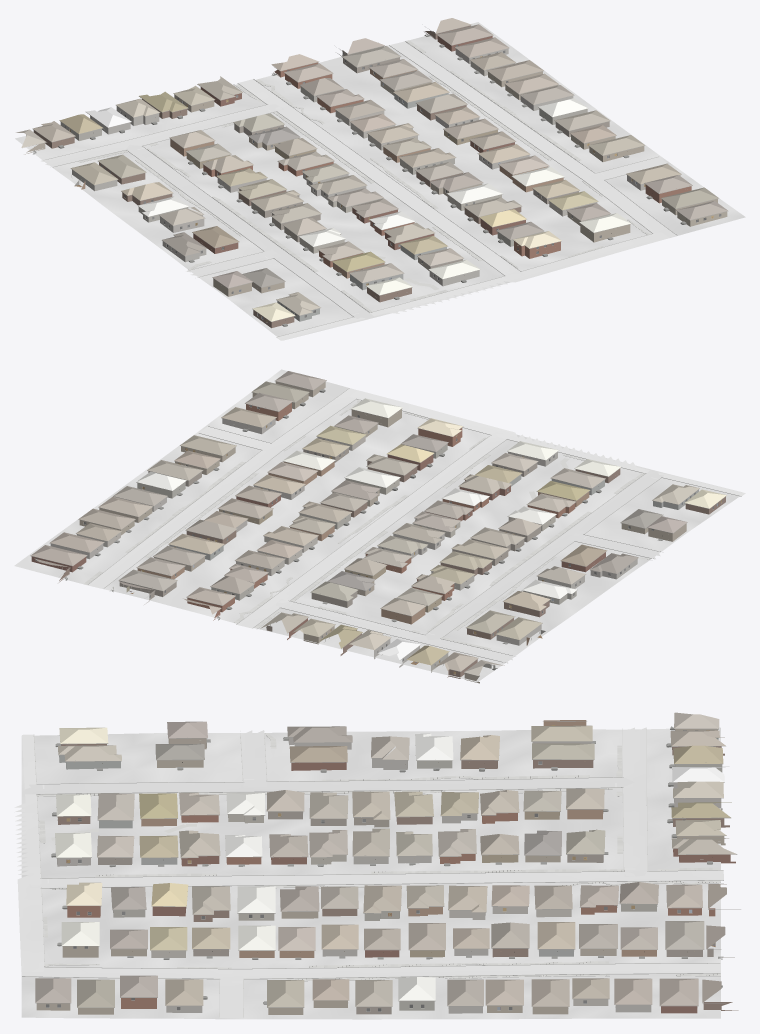
3 views of the same model, one above another, from view 1: azimuth 30°, elevation 25°; view 2: azimuth 150°, elevation 25°; view 3: azimuth 270°, elevation 25° (orthographic). The views are drawn at different scales.
Visible parts, largest first — view 1: roof, ground, concrete, wall, detail, wall_stucco, walk, curb, wall_stone, glass; view 2: roof, ground, concrete, wall, detail, walk, wall_stucco, curb, wall_stone; view 3: roof, ground, concrete, wall, walk, curb, wall_stucco, detail, wall_stone.
Part boxes in pixels (x1,y1,x2,y2): roof: [16, 18, 727, 321]; ground: [15, 22, 745, 340]; concrete: [41, 41, 676, 340]; wall: [33, 25, 717, 328]; detail: [29, 25, 728, 326]; wall_stucco: [24, 61, 727, 321]; walk: [78, 40, 650, 312]; curb: [43, 41, 677, 337]; wall_stone: [72, 48, 680, 286]; glass: [65, 27, 721, 317]; roof: [31, 371, 726, 675]; ground: [14, 369, 741, 682]; concrete: [88, 388, 745, 663]; wall: [31, 393, 725, 678]; detail: [30, 380, 726, 676]; walk: [83, 399, 650, 649]; wall_stucco: [77, 381, 698, 683]; curb: [87, 388, 741, 662]; wall_stone: [50, 418, 637, 667]; roof: [35, 712, 735, 1007]; ground: [21, 727, 720, 1019]; concrete: [14, 727, 723, 1017]; wall: [57, 720, 738, 1014]; walk: [36, 733, 720, 980]; curb: [22, 728, 723, 1017]; wall_stucco: [36, 729, 722, 1010]; detail: [35, 721, 740, 1011]; wall_stone: [57, 737, 722, 1013].
Bounding box in the file's own units: 256 × 12.24 × 262.
